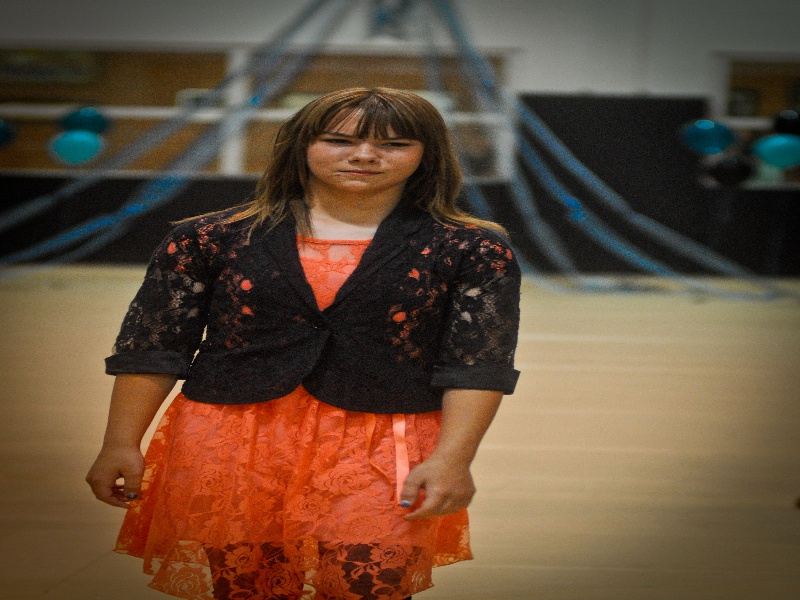face: (308, 92, 431, 197)
